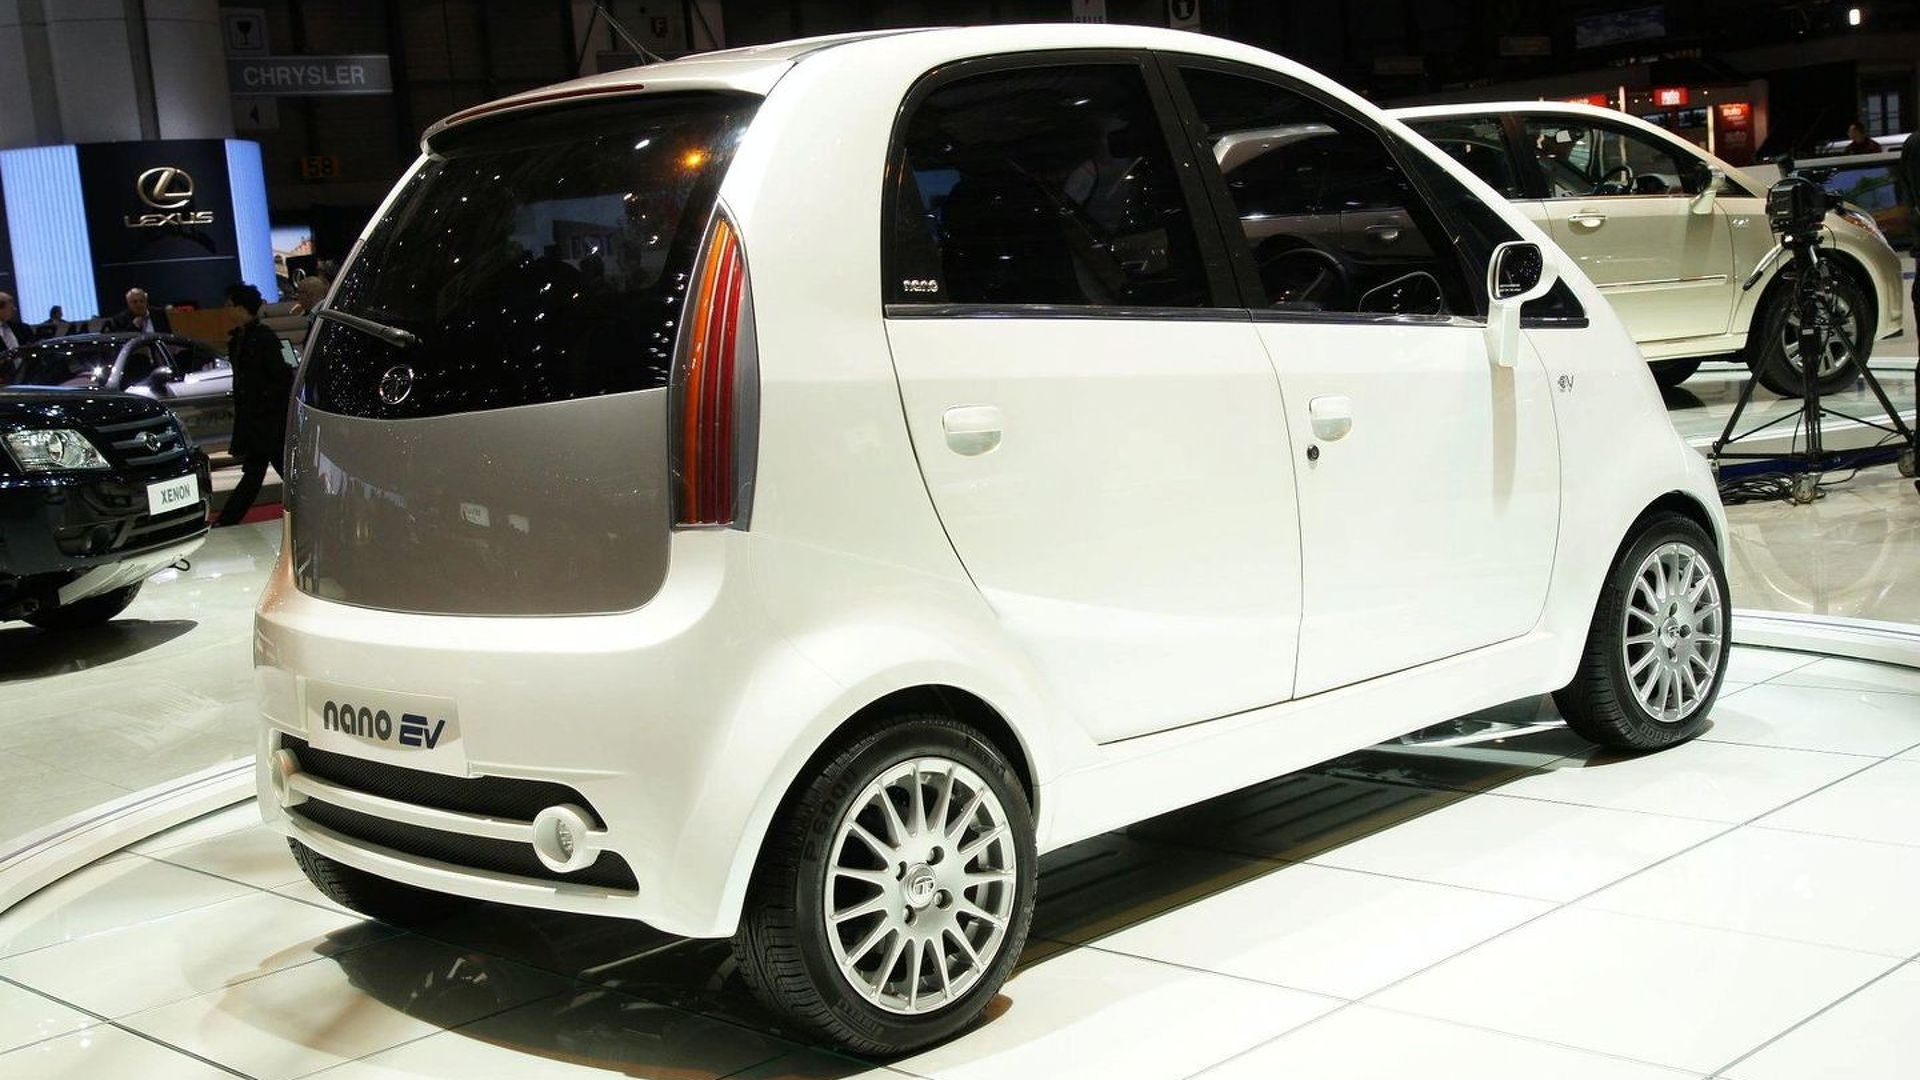Nano: (253, 17, 1739, 1058)
